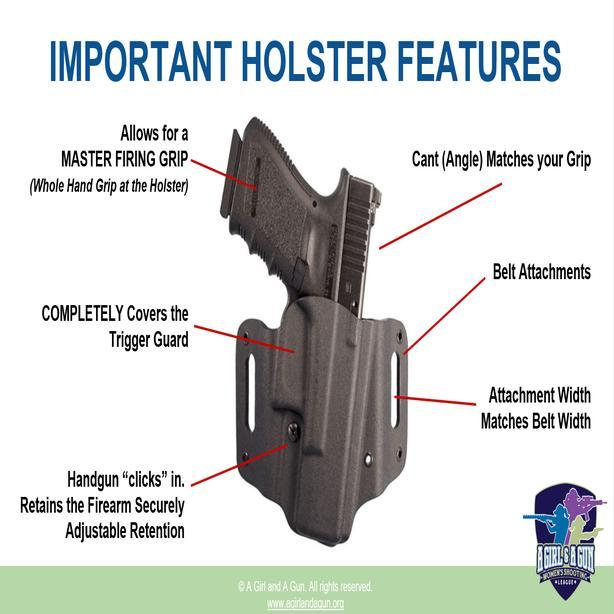Firearm: (207, 108, 444, 551)
